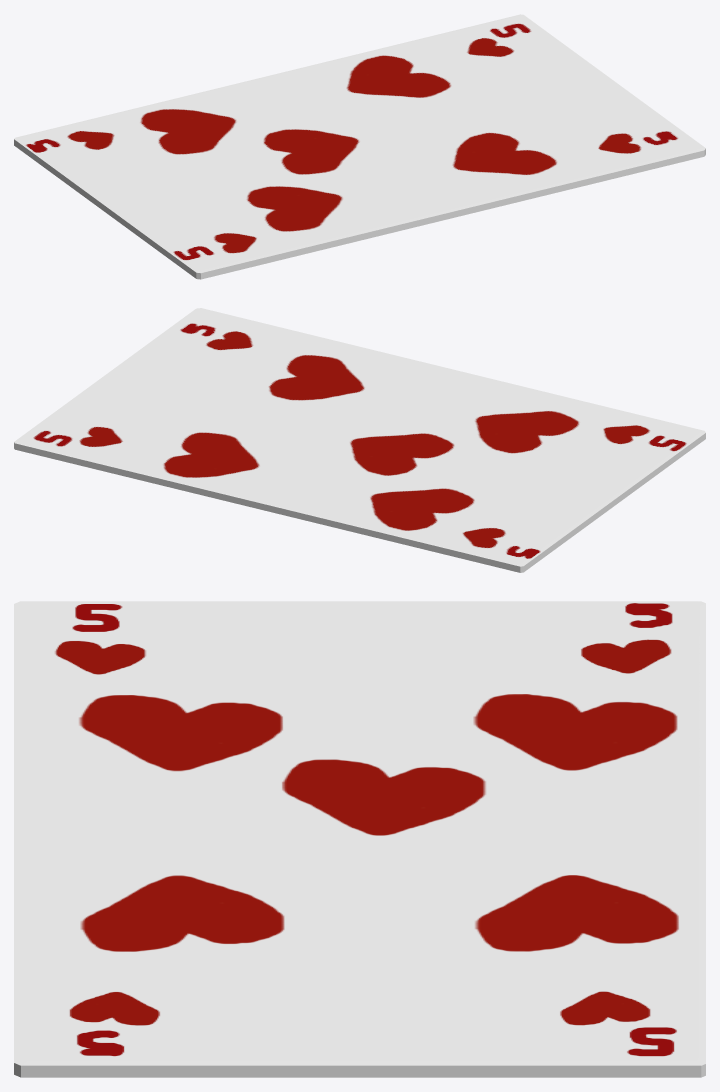
File: 5_Hearts.fbx
3 renders of one model, top to bottom at view 1: azimuth 30°, elevation 25°; view 2: azimuth 150°, elevation 25°; view 3: azimuth 270°, elevation 25°, orthographic. The views are drawn at different scales.
Visible parts, largest first — view 1: hearts5; view 2: hearts5; view 3: hearts5.
Part boxes in pixels (left/top/right/bottom): hearts5: left=14, top=14, right=705, bottom=279; hearts5: left=14, top=308, right=705, bottom=572; hearts5: left=14, top=601, right=705, bottom=1077.
Bounding box in the file's own units: 540 × 6.56 × 340.
